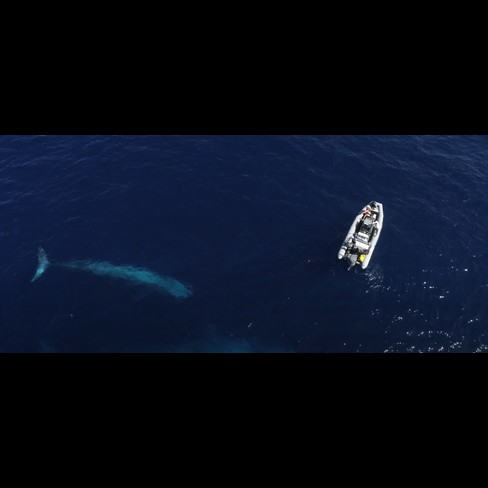bluewhale: (24, 241, 200, 304)
boat: (331, 197, 391, 275)
